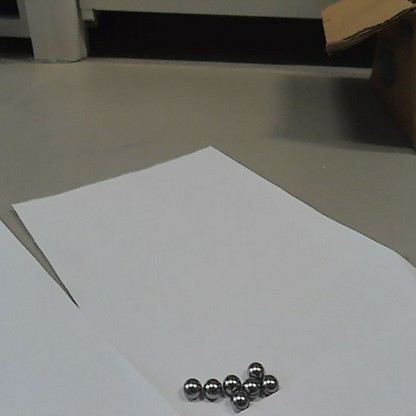ironball: (183, 375, 201, 397), (203, 378, 221, 399), (261, 376, 278, 393), (232, 391, 248, 409), (248, 360, 263, 377), (224, 375, 238, 392), (244, 378, 258, 391)
